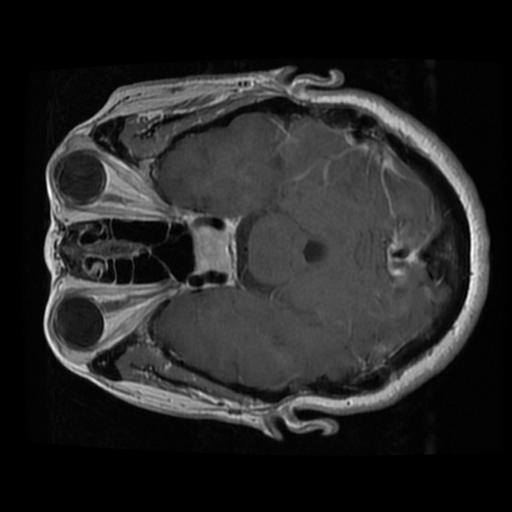pituitary tumour: (193, 228, 230, 272)
